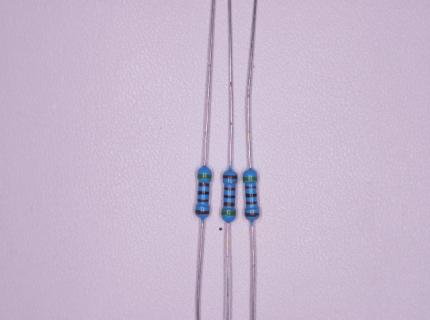Black band: (245, 193, 257, 198), (224, 194, 235, 199), (198, 191, 210, 195)
Brown band: (195, 210, 209, 215), (223, 175, 237, 180), (245, 213, 259, 217), (223, 202, 235, 206), (224, 187, 235, 191), (199, 183, 209, 187), (245, 186, 256, 189), (246, 201, 257, 204), (198, 199, 208, 202)
Green band: (222, 210, 235, 216), (198, 174, 212, 179), (243, 177, 257, 182)
